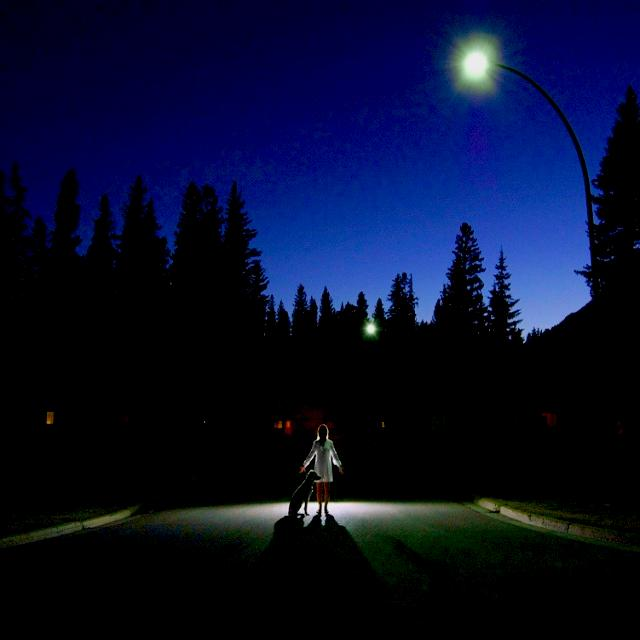Dog: (283, 436, 335, 525)
